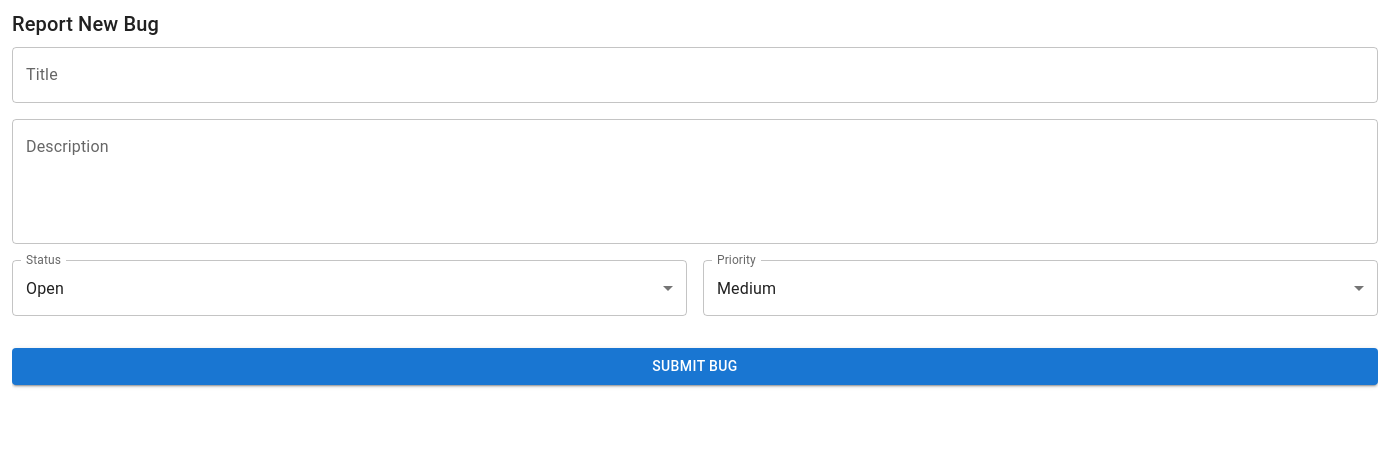
Test: BugForm › clears errors when user starts typing
# Trigger validation errors
Click the button "Submit Bug".
click(695, 366)  # box [12, 348, 1378, 384]
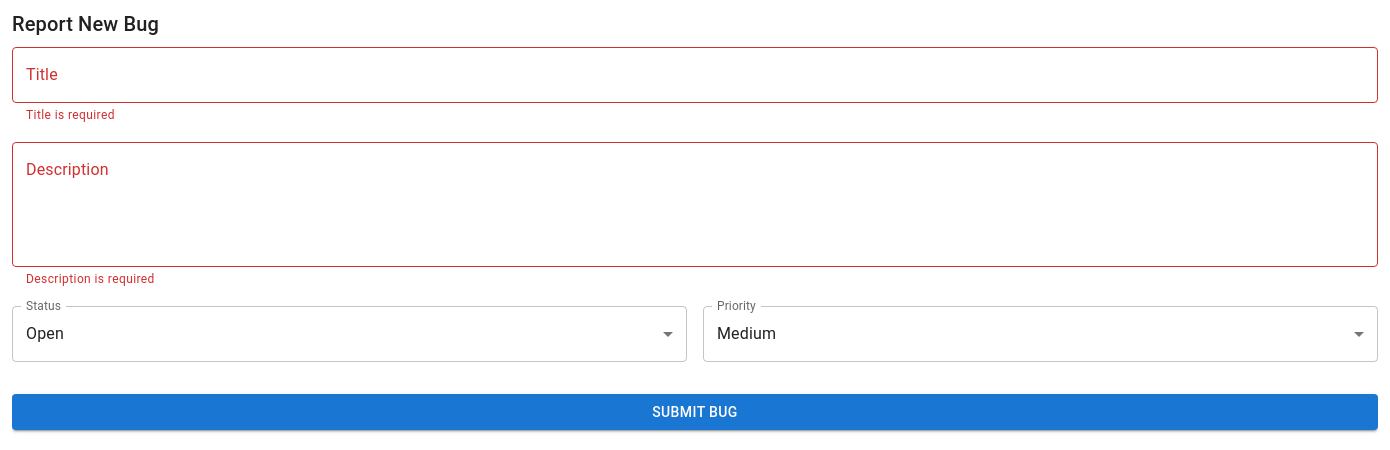
Check: the text "Title is required" is shown, box [26, 108, 115, 122]
# Start typing in title field
Type "T" into the field labelled "Title".
click(695, 75); type("T")  # box [12, 47, 1378, 103]
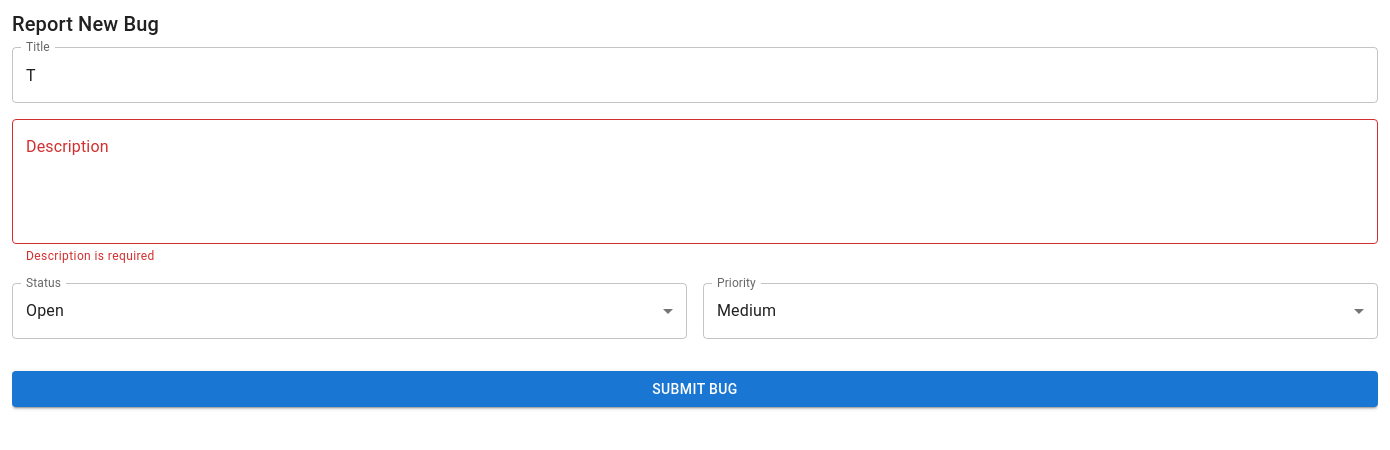
Check: the text "Title is required" is gone
